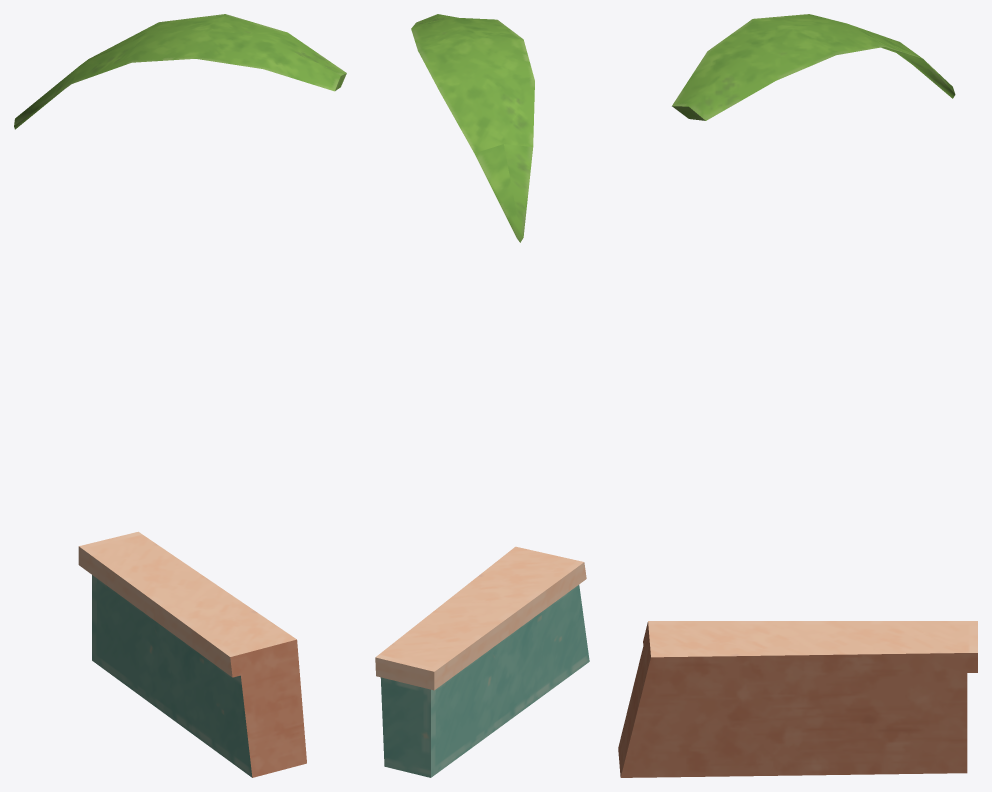
File: palm_bed_s02.fbx
3 views of the same model, side by side, from view 1: azimuth 30°, elevation 25°; view 2: azimuth 150°, elevation 25°; view 3: azimuth 270°, elevation 25° (orthographic). The views are drawn at different scales.
Parts seen in each view (by area): view 1: palm_bed_s02; view 2: palm_bed_s02; view 3: palm_bed_s02.
Part boxes in pixels (<box>): palm_bed_s02: <box>14,14,346,777</box>; palm_bed_s02: <box>375,14,589,777</box>; palm_bed_s02: <box>618,14,977,777</box>.
Size of the model in its own units: 3.69 by 10.83 by 4.78.
